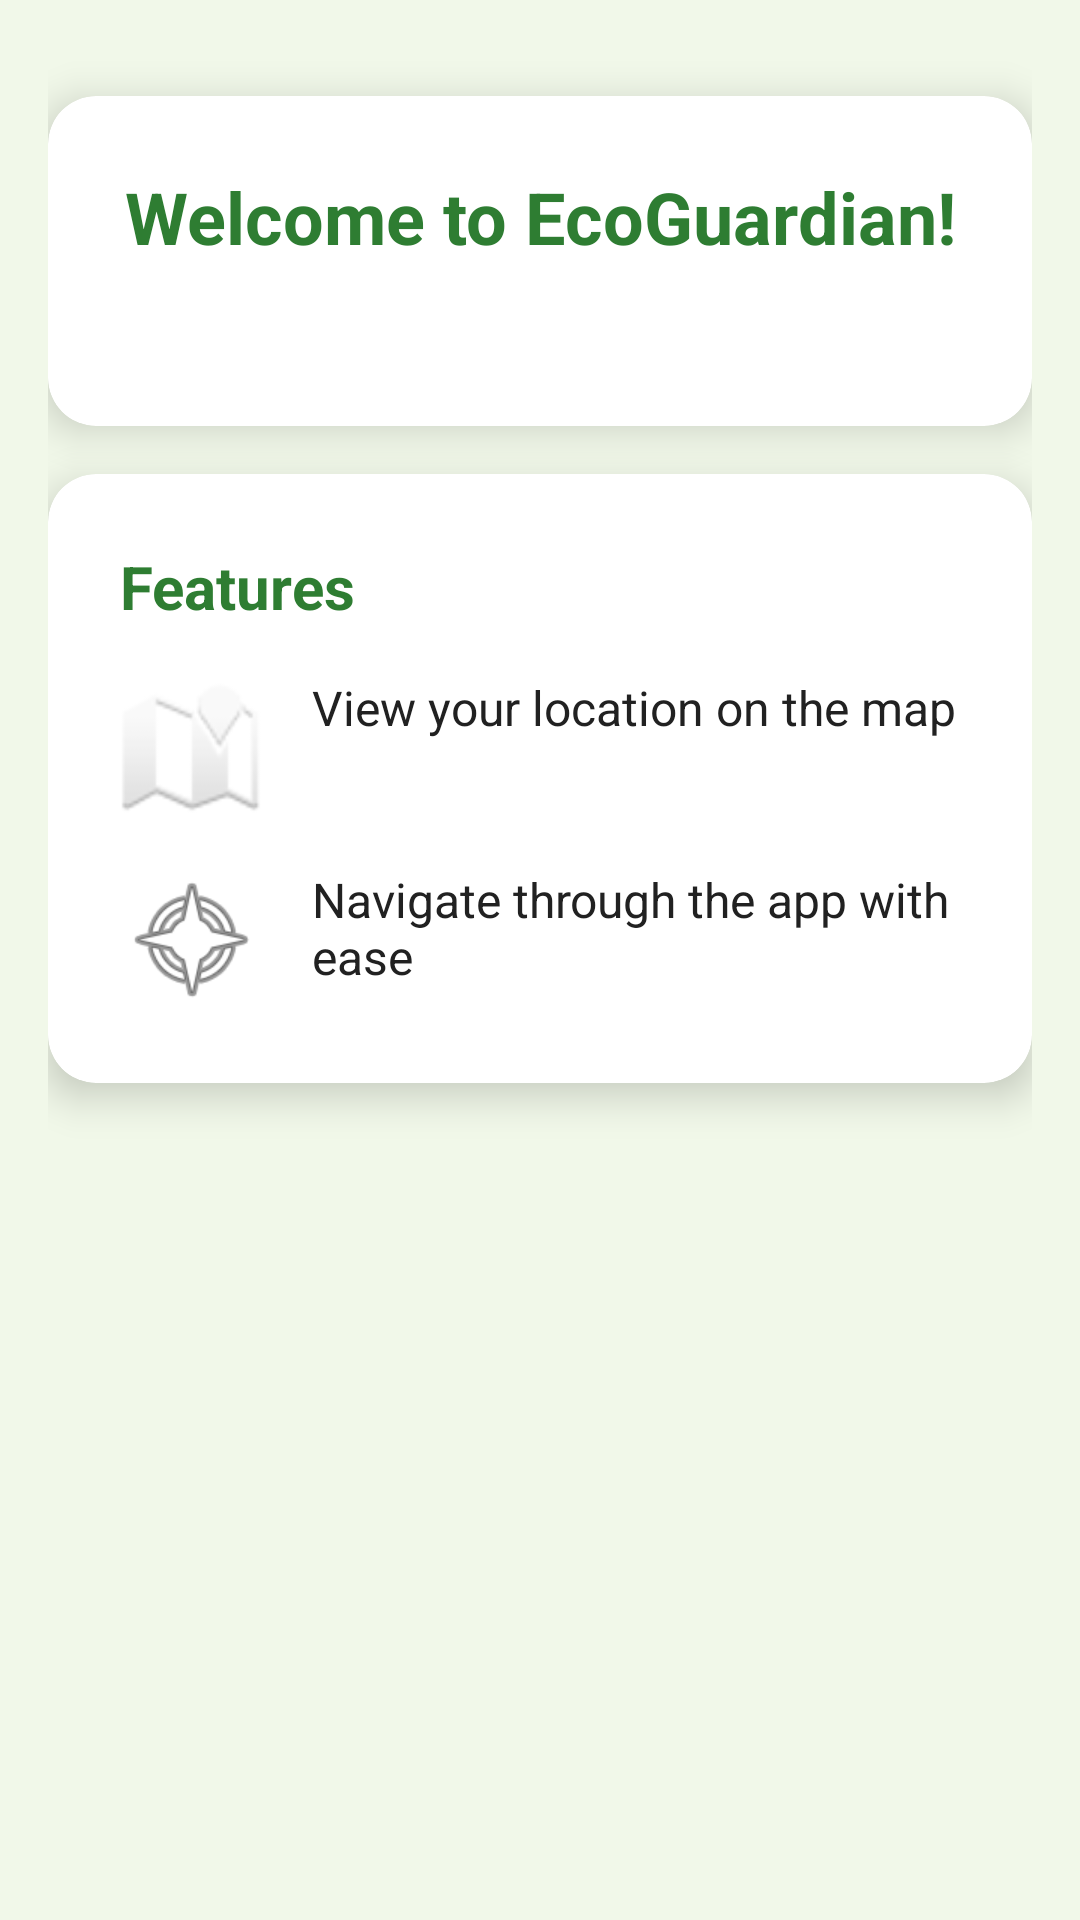

Named icons in this screenshot (1080px×1920px) and their bounding boxes, (x1, y1, x2, y2):
Compass Icon: (135, 883, 249, 997)
